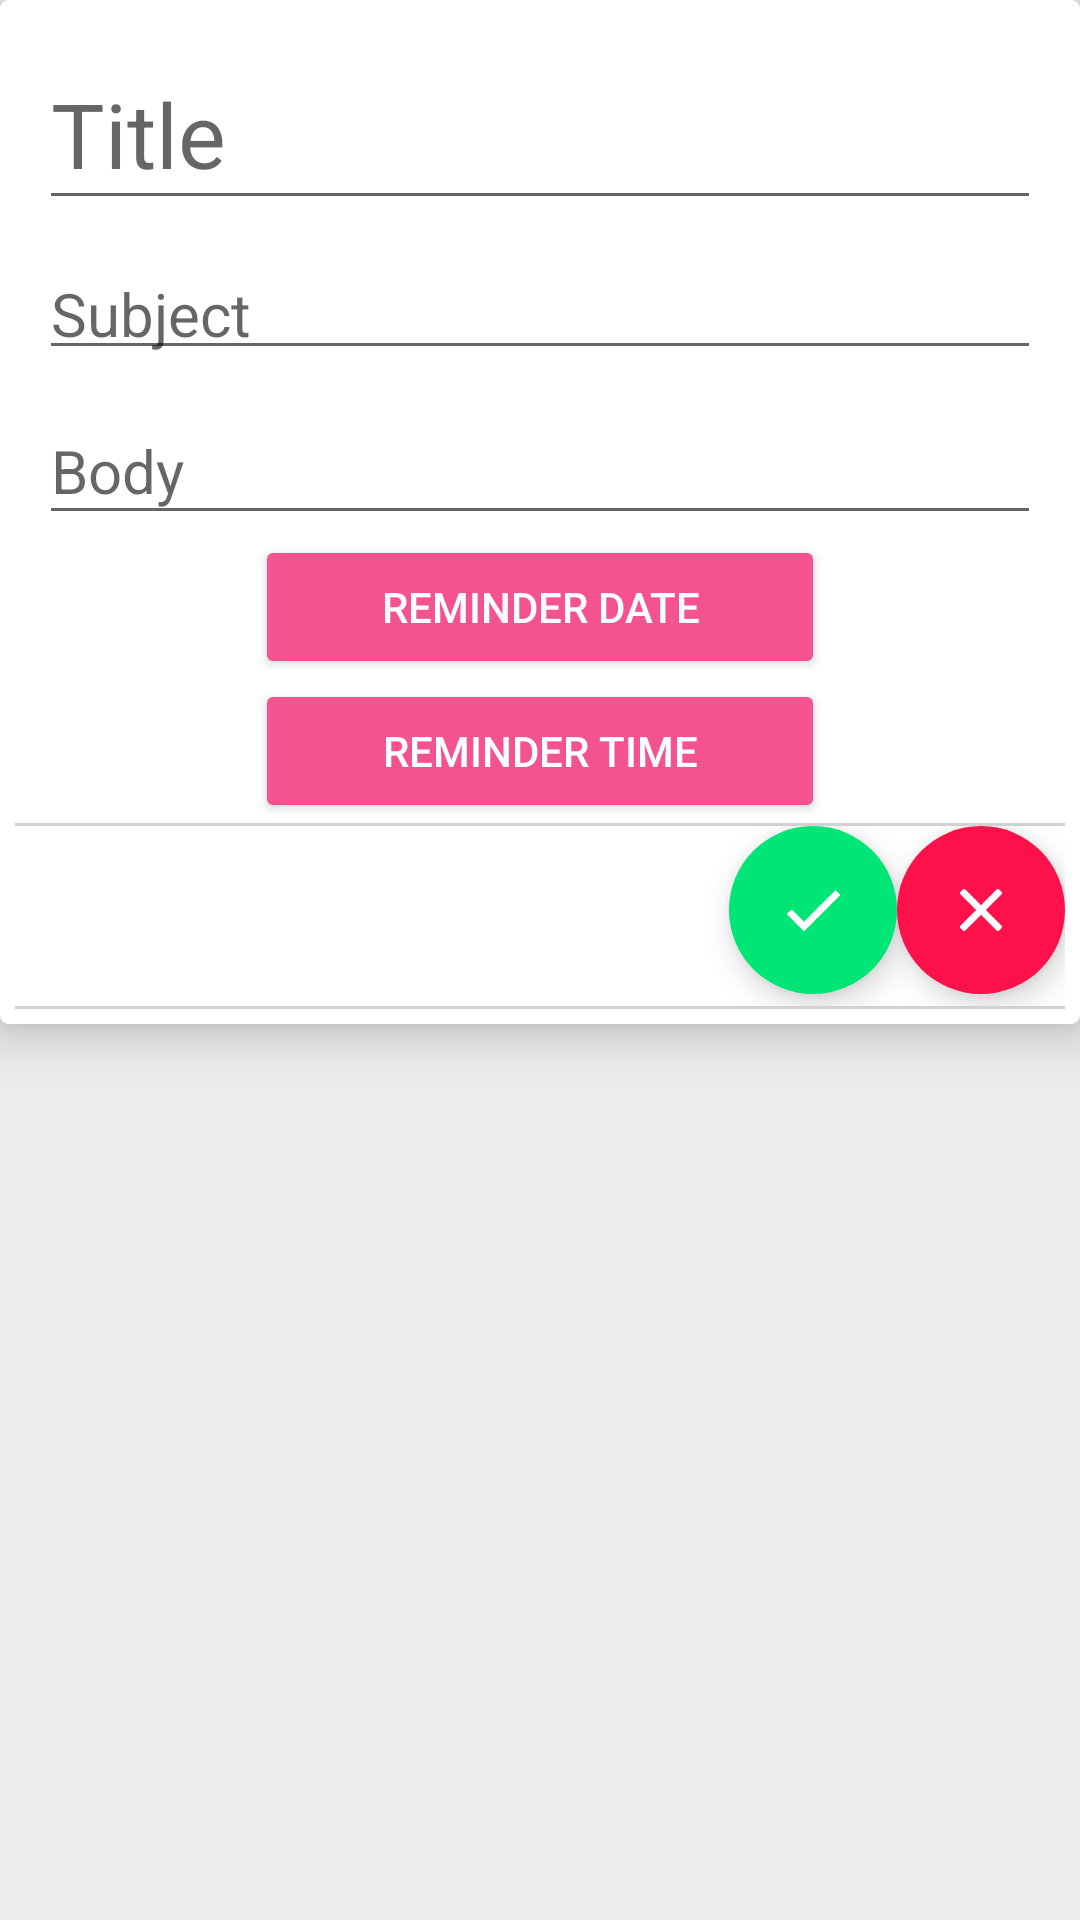

Icons on this 1080px x 1920px Android screen, each with the point to tap as (x,y):
clear: (981,910)
done: (813,910)
